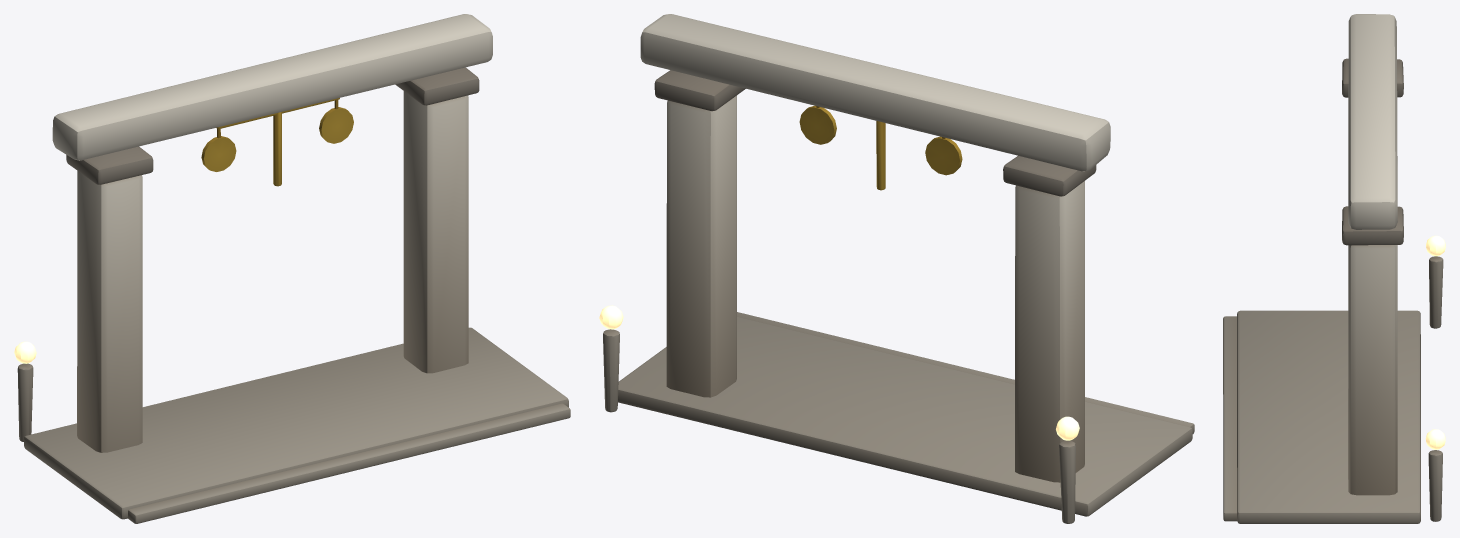
3 renders of one model, left to right at view 1: azimuth 30°, elevation 25°; view 2: azimuth 150°, elevation 25°; view 3: azimuth 270°, elevation 25°, orthographic. The views are drawn at different scales.
Parts seen in each view (by area): view 1: gate_6327e487; view 2: gate_6327e487; view 3: gate_6327e487.
Part boxes in pixels (x1,y1,x2,y2): gate_6327e487: [14, 14, 570, 523]; gate_6327e487: [599, 14, 1194, 523]; gate_6327e487: [1223, 14, 1445, 523].
Bounding box in the file's own units: 5.5 × 4.01 × 2.55.
